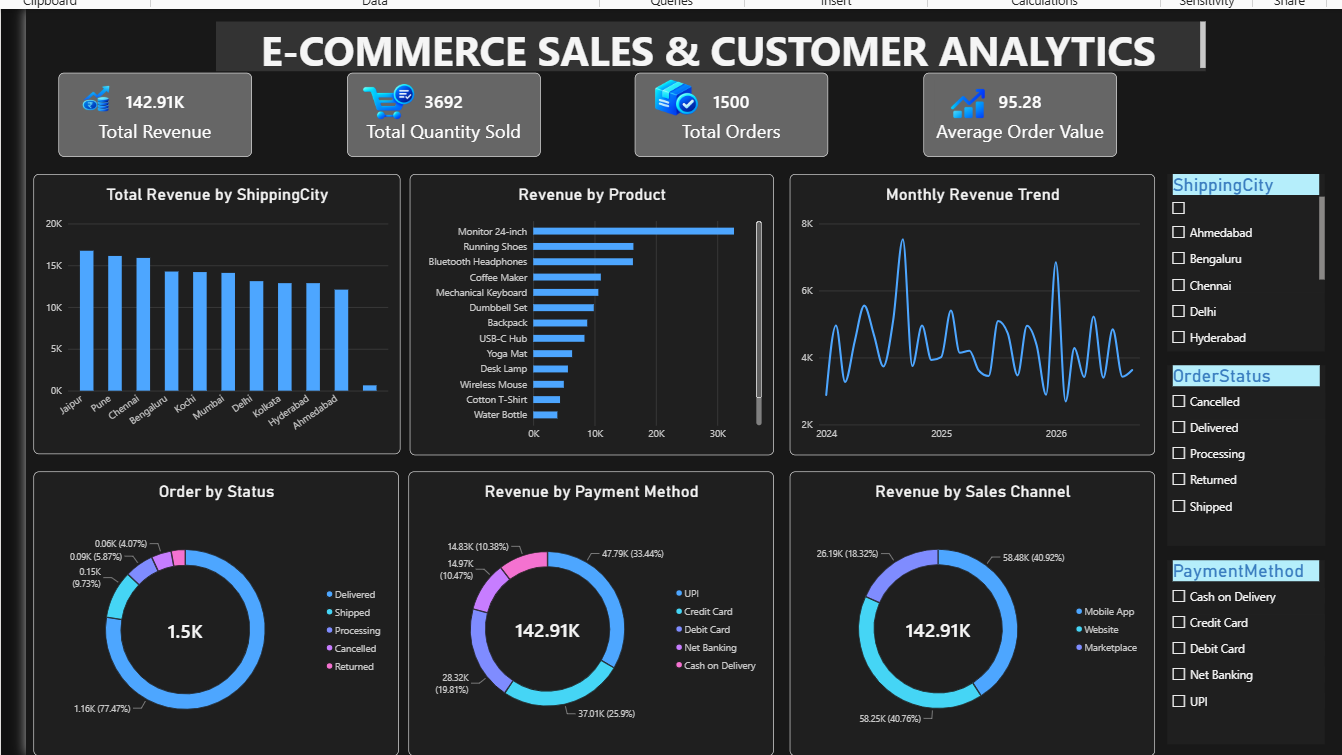

This screenshot's page, from the dashboard's own definition file:
{"tool":"powerbi","page":{"name":"Page 1","canvas":[1920,1080],"ordinal":0},"visuals":[{"type":"card","fields":{"Values":["aMeasure.Total Revenue"]},"box":[47.3,92.6,279.9,121.4],"z":0},{"type":"card","fields":{"Values":["aMeasure.Average Order Value"]},"box":[1299.3,92.3,279.9,121.4],"z":1000},{"type":"card","fields":{"Values":["aMeasure.Total Orders"]},"box":[881,92.6,279.9,121.4],"z":2000},{"type":"card","fields":{"Values":["aMeasure.Total Quantity Sold"]},"box":[465.2,92.6,279.9,121.4],"z":3000},{"type":"clusteredColumnChart","fields":{"Category":["ecommerce_orders.ShippingCity"],"Y":["aMeasure.Total Revenue"]},"box":[10.3,238.8,531,405.5],"z":4000},{"type":"donutChart","title":"Order by Status","fields":{"Category":["ecommerce_orders.OrderStatus"],"Y":["CountNonNull(ecommerce_orders.OrderID)"]},"box":[10.3,669,529,411.7],"z":5000},{"type":"clusteredBarChart","title":"Revenue by Product","fields":{"Category":["ecommerce_products.ProductName"],"Y":["aMeasure.Total Revenue"]},"box":[555.7,238.8,526.9,407.5],"z":6000},{"type":"donutChart","title":"Revenue by Payment Method","fields":{"Category":["ecommerce_orders.PaymentMethod"],"Y":["aMeasure.Total Revenue"]},"box":[553.7,669,529,411.7],"z":7000},{"type":"donutChart","title":"Revenue by Sales Channel","fields":{"Category":["ecommerce_orders.SalesChannel"],"Y":["aMeasure.Total Revenue"]},"box":[1105.3,669,529,411.7],"z":8000},{"type":"lineChart","title":"Monthly Revenue Trend","fields":{"Category":["ecommerce_orders.OrderDate.Variation.Date Hierarchy.Year","ecommerce_orders.OrderDate.Variation.Date Hierarchy.Month"],"Y":["aMeasure.Total Revenue"]},"box":[1105.3,238.8,529,407.5],"z":9000},{"type":"slicer","fields":{"Values":["ecommerce_orders.ShippingCity"]},"box":[1652.2,238.9,228,257],"z":10000},{"type":"slicer","title":"Order Status","fields":{"Values":["ecommerce_orders.OrderStatus"]},"box":[1652.2,515.8,228.5,261.4],"z":11000},{"type":"slicer","fields":{"Values":["ecommerce_orders.PaymentMethod"]},"box":[1652.2,798.1,228,266],"z":12000},{"type":"textbox","box":[275.1,18.1,1433,72],"z":13000},{"type":"image","box":[59.7,97.7,83.2,65.1],"z":14000},{"type":"image","box":[479.6,103.2,88.7,59.7],"z":15000},{"type":"image","box":[890.4,97.7,99.5,65.1],"z":16000},{"type":"image","box":[1315.6,103.2,85.1,65.1],"z":17000}]}

Visuals, with their boxes on the page's 1920x1080 design canvas (x1, y1, x2, y2). These are canvas units, not pixel positions in the 1342x755 screenshot, which may show the page scaled, cropped or inside an application window:
card - aMeasure.Total Revenue: <region>47, 93, 327, 214</region>
card - aMeasure.Average Order Value: <region>1299, 92, 1579, 214</region>
card - aMeasure.Total Orders: <region>881, 93, 1161, 214</region>
card - aMeasure.Total Quantity Sold: <region>465, 93, 745, 214</region>
clusteredColumnChart - ecommerce_orders.ShippingCity x aMeasure.Total Revenue: <region>10, 239, 541, 644</region>
"Order by Status" donutChart: <region>10, 669, 539, 1081</region>
"Revenue by Product" clusteredBarChart: <region>556, 239, 1083, 646</region>
"Revenue by Payment Method" donutChart: <region>554, 669, 1083, 1081</region>
"Revenue by Sales Channel" donutChart: <region>1105, 669, 1634, 1081</region>
"Monthly Revenue Trend" lineChart: <region>1105, 239, 1634, 646</region>
slicer - ecommerce_orders.ShippingCity: <region>1652, 239, 1880, 496</region>
"Order Status" slicer: <region>1652, 516, 1881, 777</region>
slicer - ecommerce_orders.PaymentMethod: <region>1652, 798, 1880, 1064</region>
textbox: <region>275, 18, 1708, 90</region>
image: <region>60, 98, 143, 163</region>
image: <region>480, 103, 568, 163</region>
image: <region>890, 98, 990, 163</region>
image: <region>1316, 103, 1401, 168</region>
